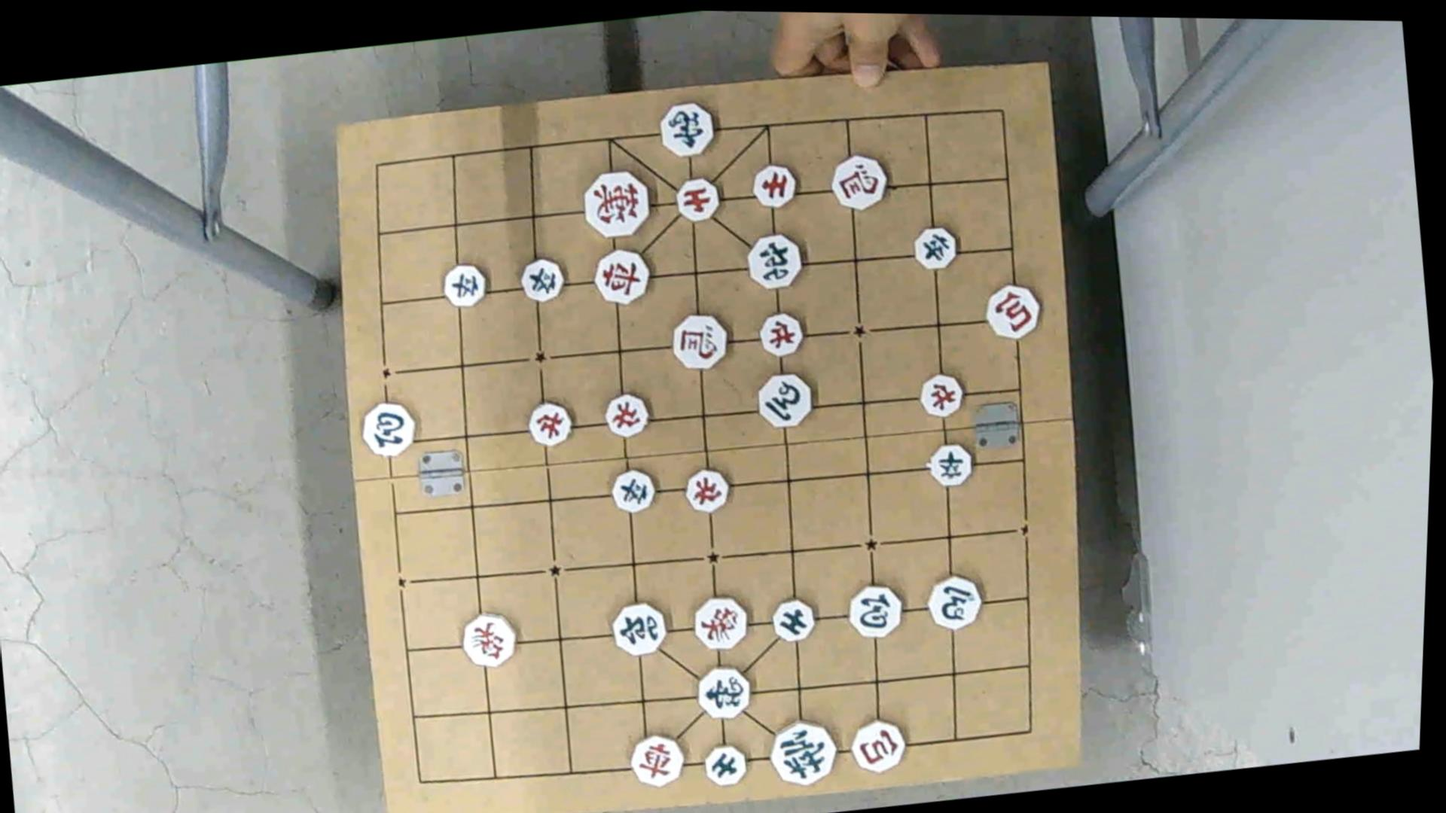cha_green: (609, 597, 675, 654), (744, 233, 809, 288)
cha_red: (588, 248, 656, 303), (625, 732, 691, 788)
jol_green: (605, 465, 660, 515), (518, 251, 570, 303), (923, 440, 978, 484), (441, 263, 490, 310), (910, 227, 963, 269)
jol_red: (679, 467, 735, 513), (755, 312, 810, 358), (520, 401, 576, 446), (599, 394, 654, 437), (917, 374, 969, 418)
ma_green: (923, 575, 987, 630), (755, 374, 816, 425)
ma_red: (667, 309, 731, 372), (828, 155, 892, 210)
po_green: (355, 397, 421, 455), (845, 585, 909, 638)
po_red: (979, 284, 1045, 340), (847, 718, 914, 772)
sa_green: (699, 739, 754, 787), (767, 598, 820, 642)
sa_red: (668, 170, 726, 225), (746, 161, 801, 211)
sang_green: (657, 96, 718, 160), (693, 662, 754, 721)
sang_red: (456, 611, 520, 667), (687, 594, 751, 650)
wang_green: (765, 720, 844, 785)
wang_red: (577, 169, 657, 236)
